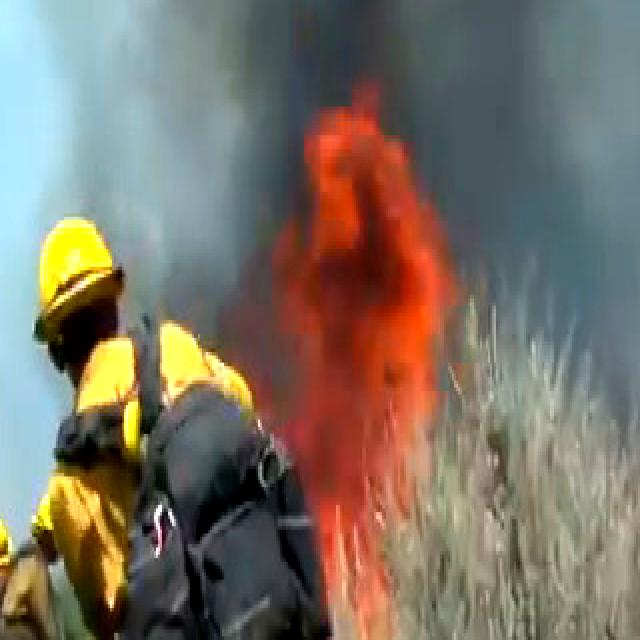fire: (251, 11, 465, 476)
